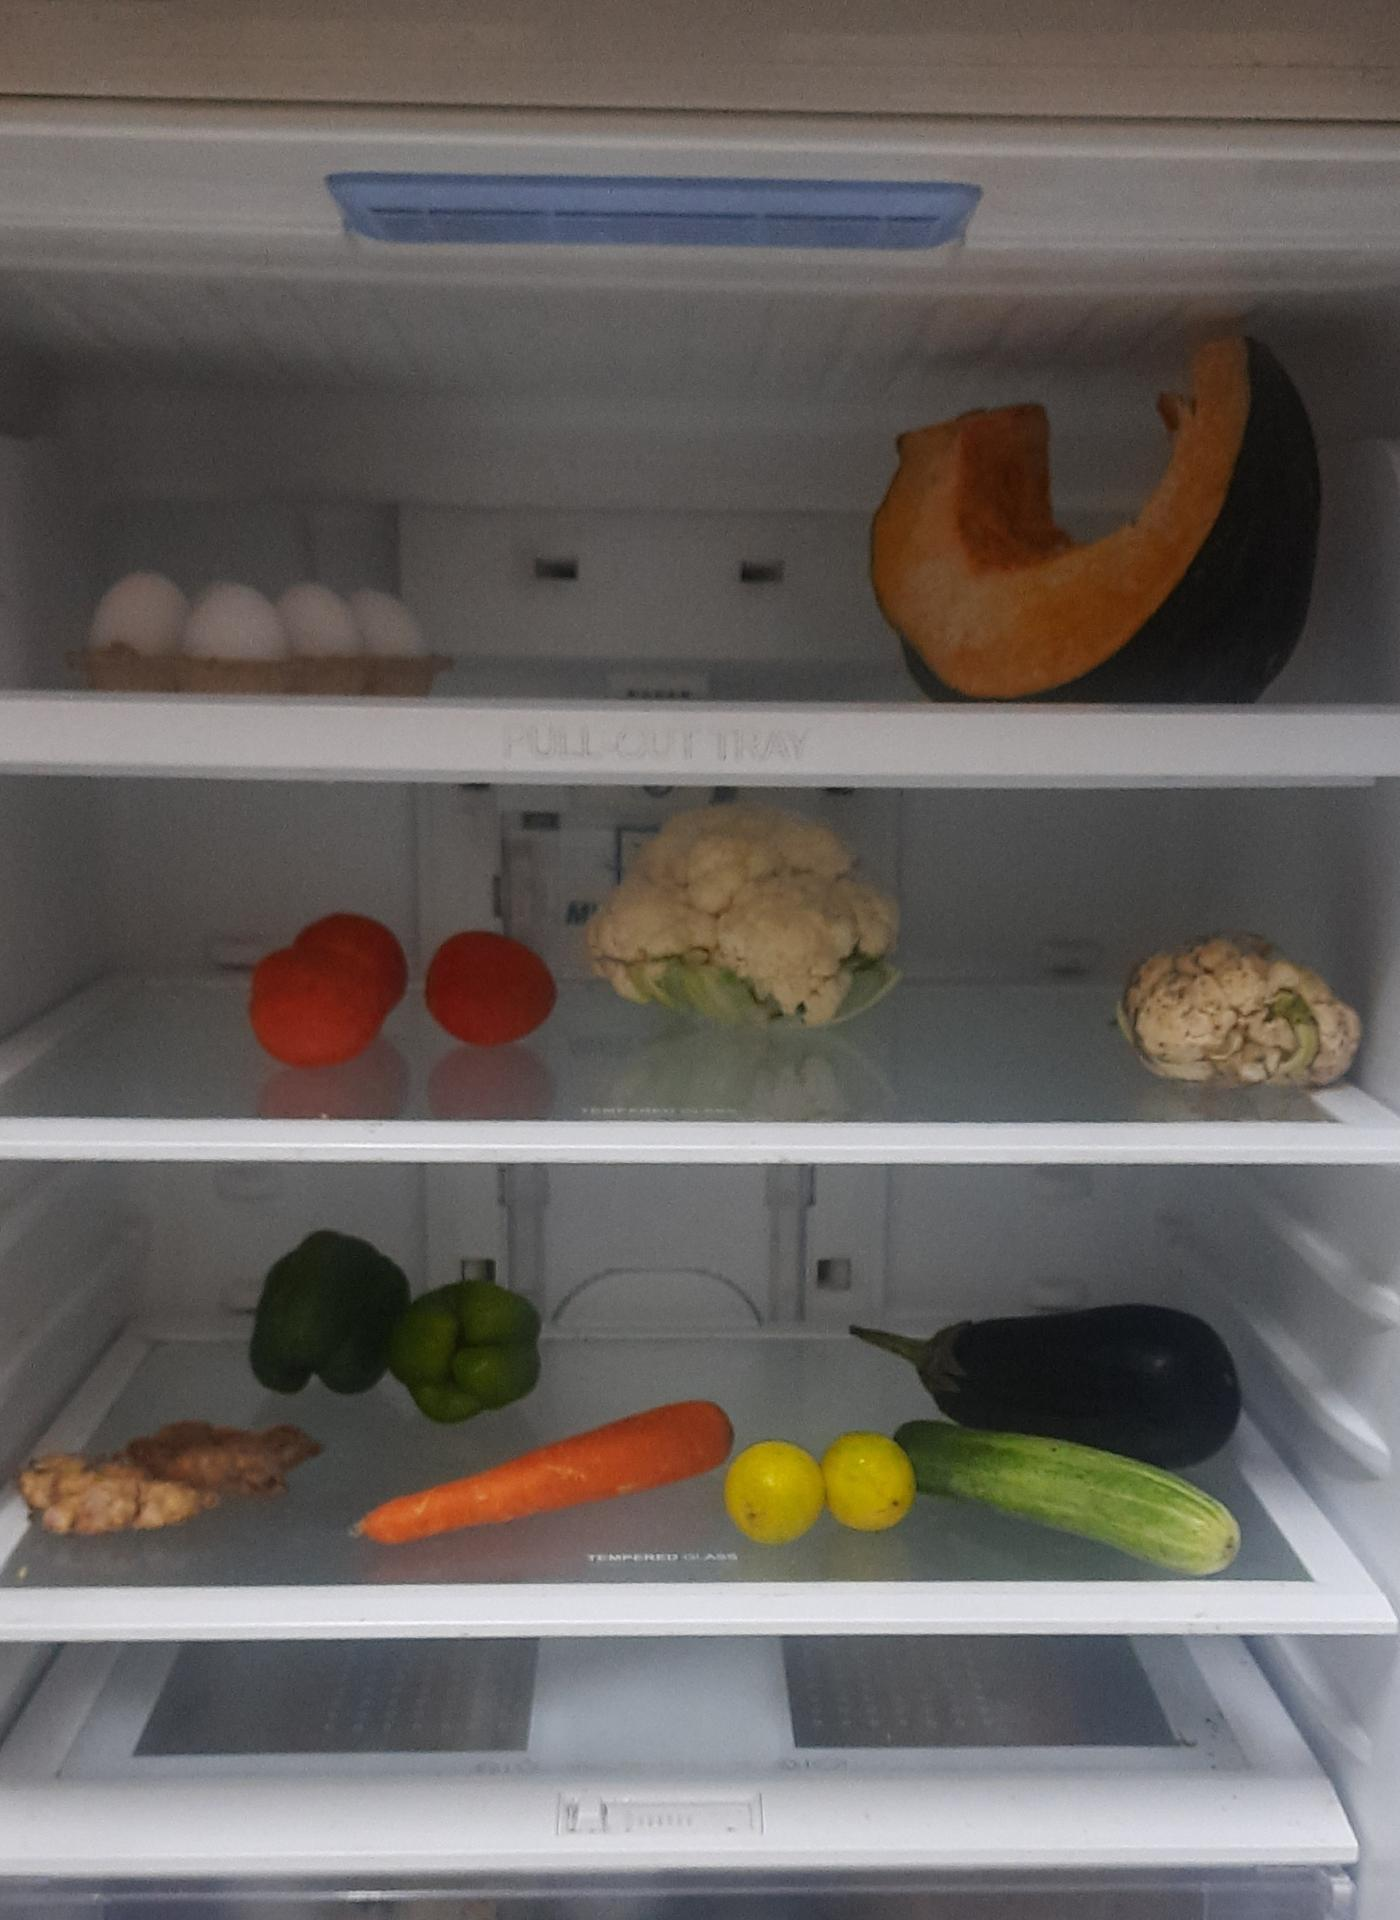brinjal: (838, 1291, 1252, 1485)
capsicum: (249, 1224, 550, 1425)
carrots: (355, 1404, 737, 1549)
cauliflower: (589, 795, 908, 1018), (1121, 942, 1367, 1090)
cucumber: (893, 1416, 1245, 1577)
egg: (85, 556, 441, 675)
ginger: (18, 1421, 318, 1540)
lemon: (722, 1434, 917, 1547)
pumpkin: (881, 323, 1336, 698)
tomato: (250, 917, 414, 1073), (422, 927, 561, 1048)
